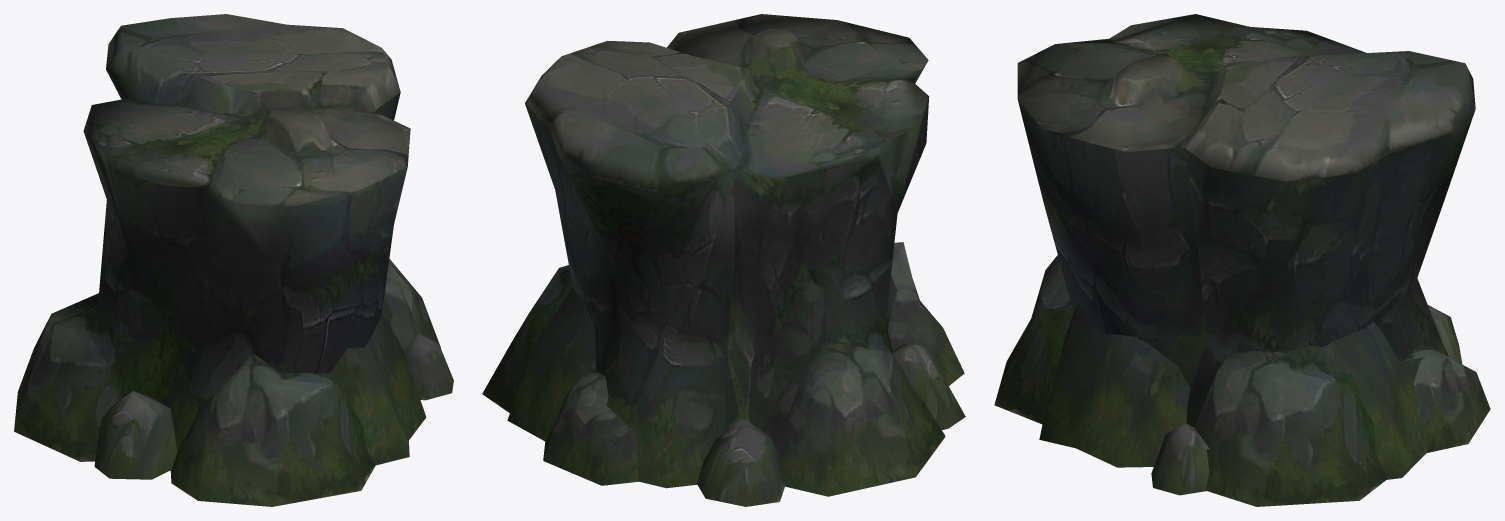
Rendered from rock_A1.fbx.
3 views of the same model, side by side, from view 1: azimuth 30°, elevation 25°; view 2: azimuth 150°, elevation 25°; view 3: azimuth 270°, elevation 25° (orthographic). The views are drawn at different scales.
Parts seen in each view (by area): view 1: rock_A1; view 2: rock_A1; view 3: rock_A1.
Boxes of the visible parts, x1,y1,x2,y2 form: rock_A1: (14, 14, 453, 506); rock_A1: (482, 14, 965, 506); rock_A1: (994, 14, 1490, 506).
Size of the model in its own units: 20.81 by 15.89 by 20.69.
